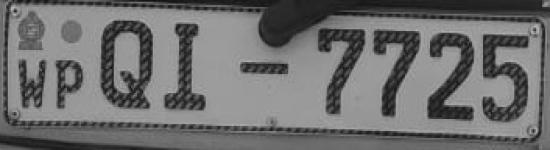-: (233, 57, 294, 78)
2: (425, 28, 480, 126)
5: (477, 29, 536, 128)
7: (312, 20, 370, 122), (369, 23, 425, 122)
I: (159, 16, 216, 118)
P: (50, 49, 91, 114)
Q: (97, 14, 162, 118)
W: (14, 56, 52, 110)
